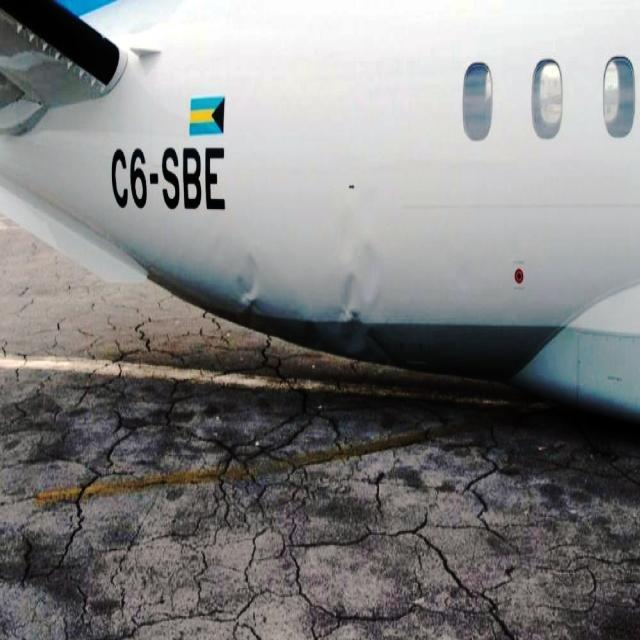dent: (230, 201, 389, 362)
